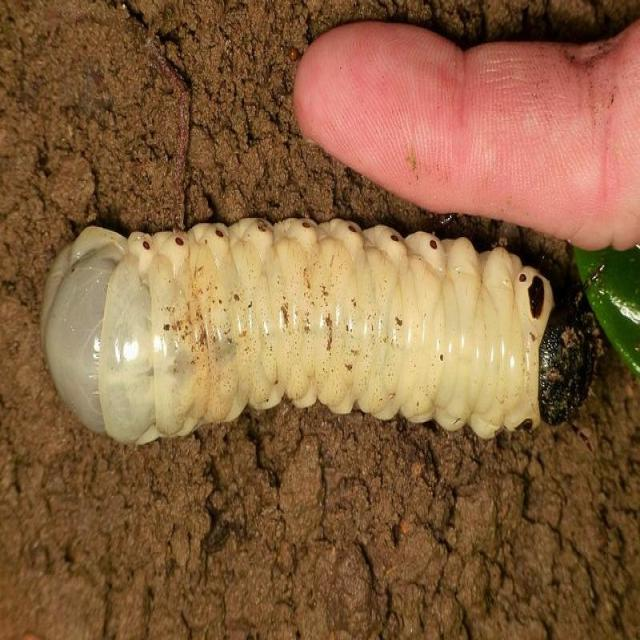grub: (39, 219, 595, 455)
